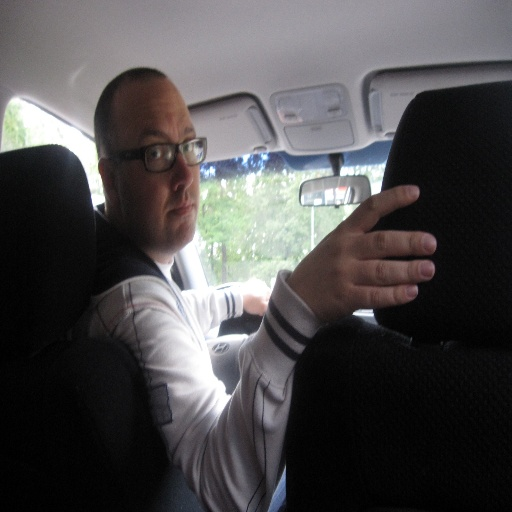hand: (296, 182, 446, 331), (238, 277, 273, 317)
